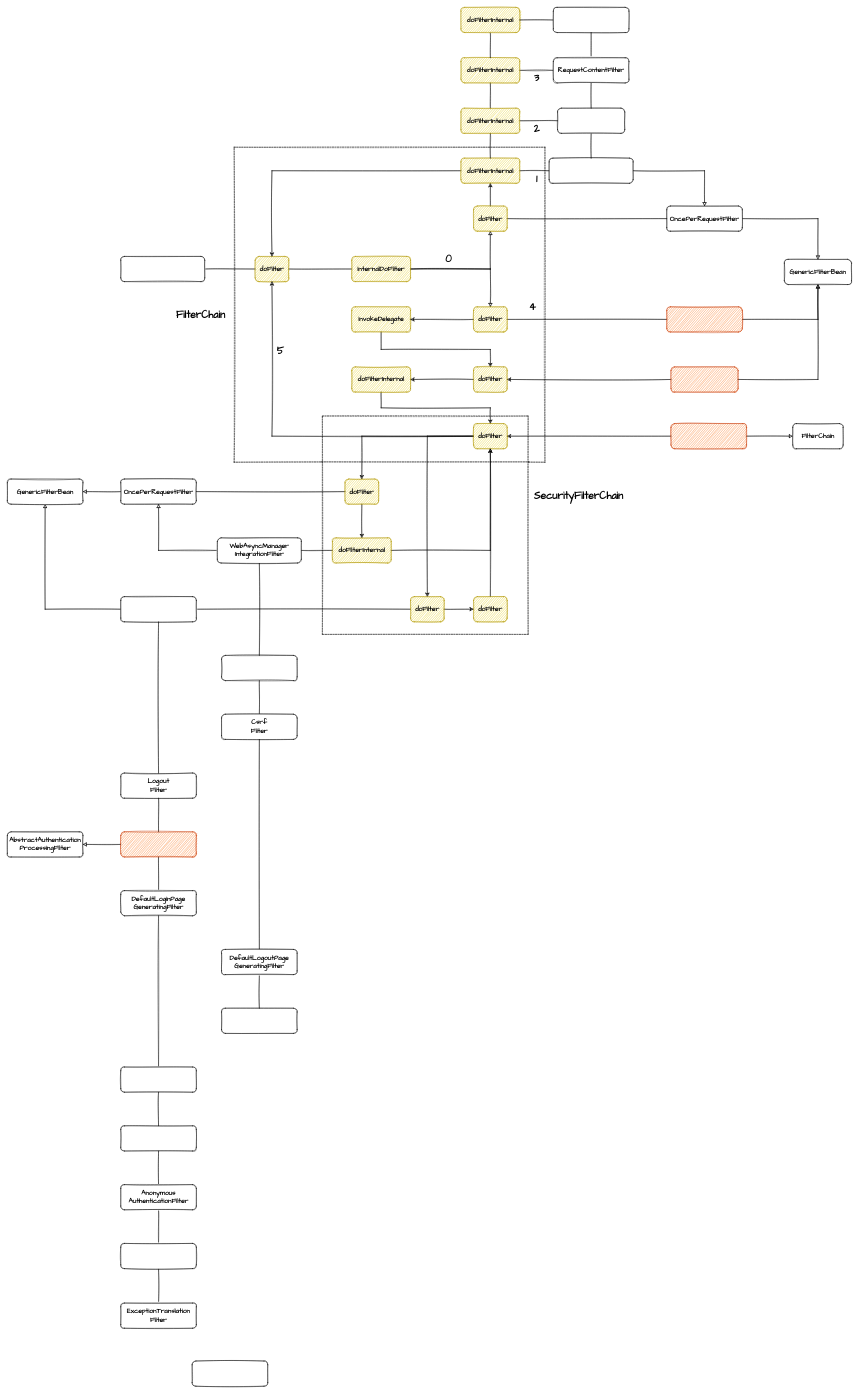
Some shapes in this 859 by 1394 pixel diagram are drawn without their labels. Here are the shapes that lost their labels. From the top down, the centre of each, then its label:
point (591, 20): WsFilter
point (591, 120): FormContentFilter
point (591, 170): CharacterEncodingFilter
point (162, 269): ApplicationFilterChain
point (704, 319): DelegatingFilterProxy
point (704, 379): FilterChainProxy
point (709, 436): FilterChainProxy $VirtualFilterChain
point (158, 609): SecurityContext PersistenceFilter
point (259, 668): HeaderWriter Filter
point (158, 844): UsernamePassword AuthenticationFilter
point (259, 1020): BasicAuthentication Filter
point (158, 1079): RequestCache AwareFilter
point (158, 1138): SecurityContextHolder AwareRquestFilter
point (158, 1256): SessionManagement Filter
point (230, 1373): FilterSecurity Interceptor
